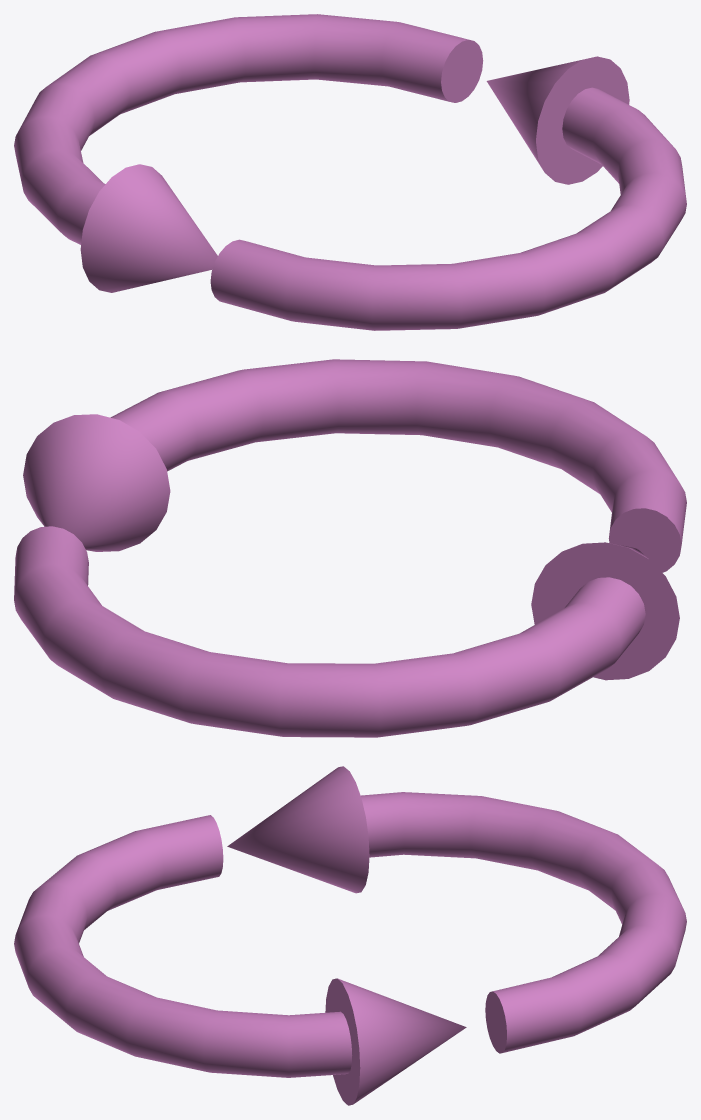
Rendered from Arrow.fbx.
3 views of the same model, one above another, from view 1: azimuth 30°, elevation 25°; view 2: azimuth 150°, elevation 25°; view 3: azimuth 270°, elevation 25° (orthographic). The views are drawn at different scales.
Parts seen in each view (by area): view 1: pTorus1, pasted__pTorus1, pasted__pCone1, pCone1; view 2: pasted__pTorus1, pTorus1, pCone1, pasted__pCone1; view 3: pTorus1, pasted__pTorus1, pasted__pCone1, pCone1.
Boxes of the visible parts, x1,y1,x2,y2 form: pTorus1: [210, 87, 686, 330]; pasted__pTorus1: [14, 14, 483, 244]; pasted__pCone1: [80, 164, 217, 292]; pCone1: [486, 56, 629, 184]; pasted__pTorus1: [14, 526, 645, 737]; pTorus1: [110, 359, 686, 572]; pCone1: [23, 414, 170, 551]; pasted__pCone1: [531, 542, 679, 680]; pTorus1: [14, 815, 352, 1077]; pasted__pTorus1: [361, 792, 686, 1053]; pasted__pCone1: [227, 766, 369, 893]; pCone1: [325, 978, 466, 1105].
Size of the model in its own units: 9.7 by 2 by 10.44.
